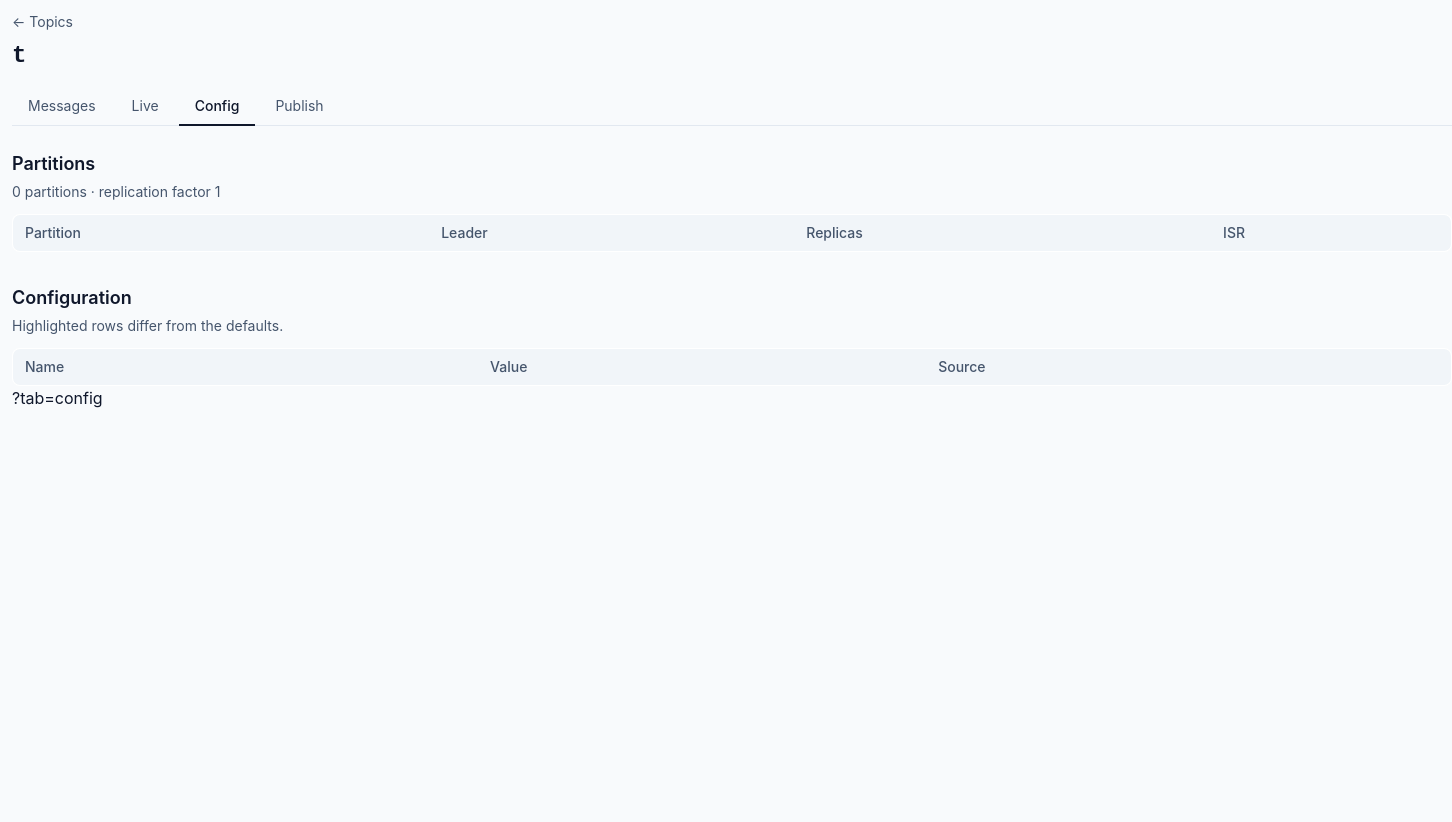
Scenario: TopicDetail › switches tabs through the URL
Click the tab "Publish" at (300, 107), box left=259, top=88, right=340, bottom=126
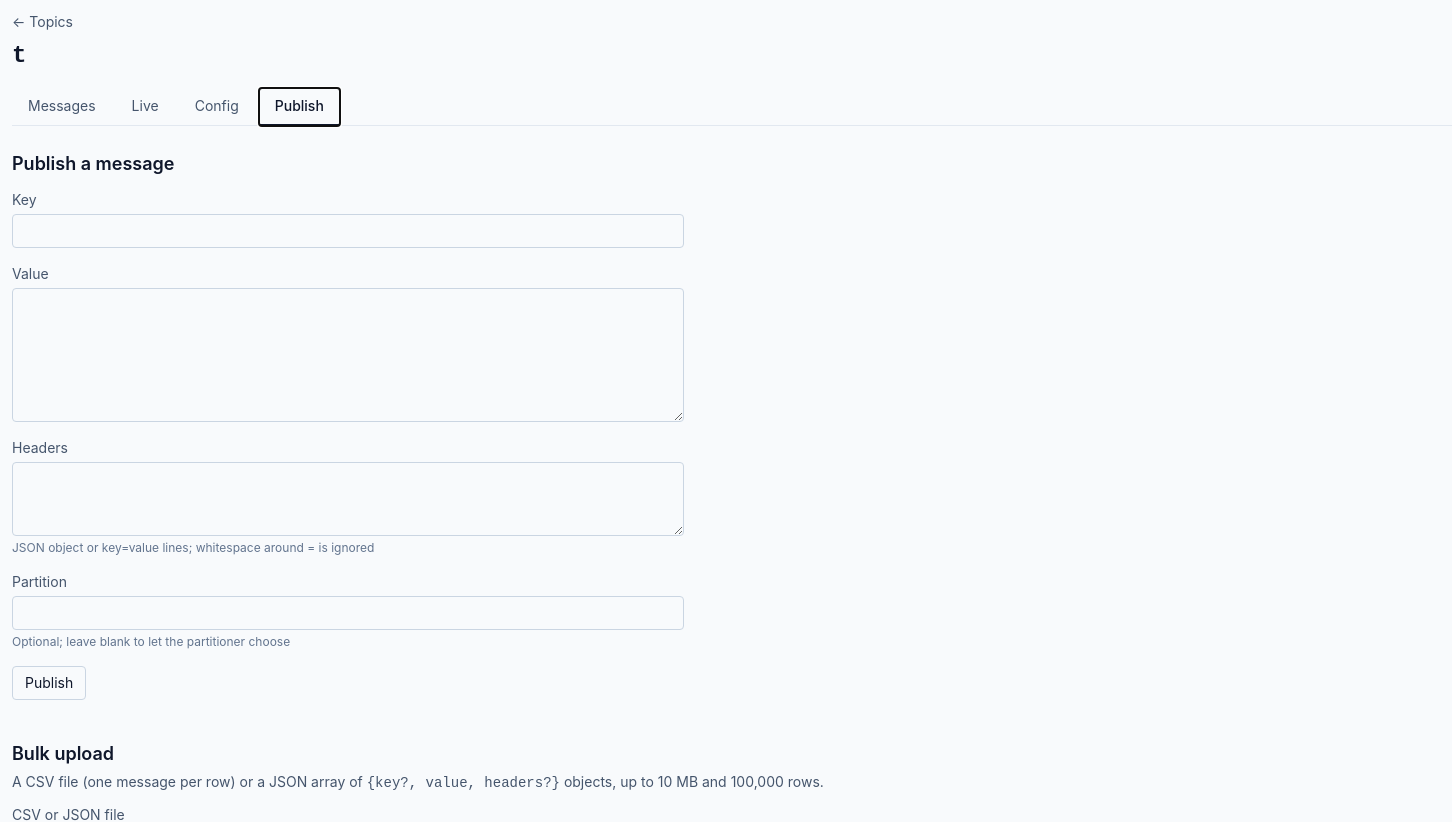
expect the heading "Publish a message" is shown: met, box left=12, top=153, right=174, bottom=174
